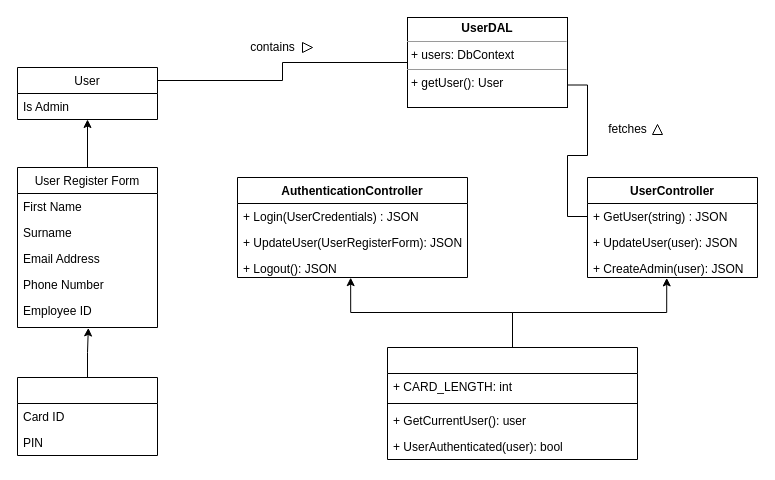
The diagram is 775 pixels wide and 480 high, and some of its shapes have lost their labels. The shapes that lost their labels are listed below. From the top down, each one's box as (x1, y1, x2, y2) in pixels, then its label:
(16, 376, 158, 456): User Credentials
(386, 346, 638, 460): BaseController
